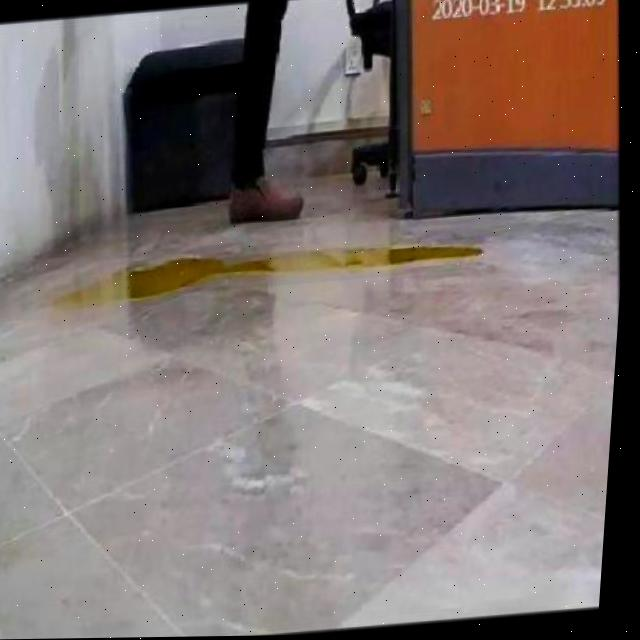spillage: (130, 246, 488, 297), (60, 273, 123, 306)
